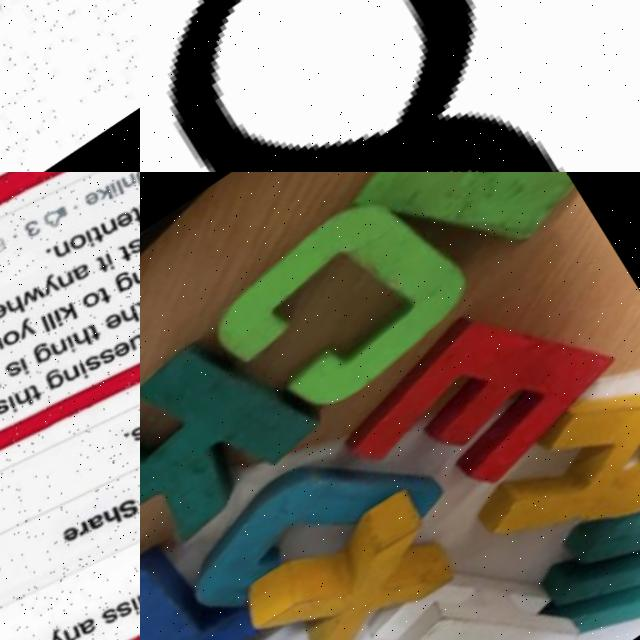3: (22, 214, 48, 239)
6: (0, 231, 14, 256)
8: (140, 0, 640, 172)
C: (206, 172, 499, 431)
E: (311, 258, 640, 553)
K: (140, 309, 339, 597)
M: (514, 451, 640, 640)
R: (455, 340, 640, 590)
V: (140, 597, 349, 640)
X: (226, 472, 478, 640)
